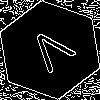V: (25, 25, 83, 82)
